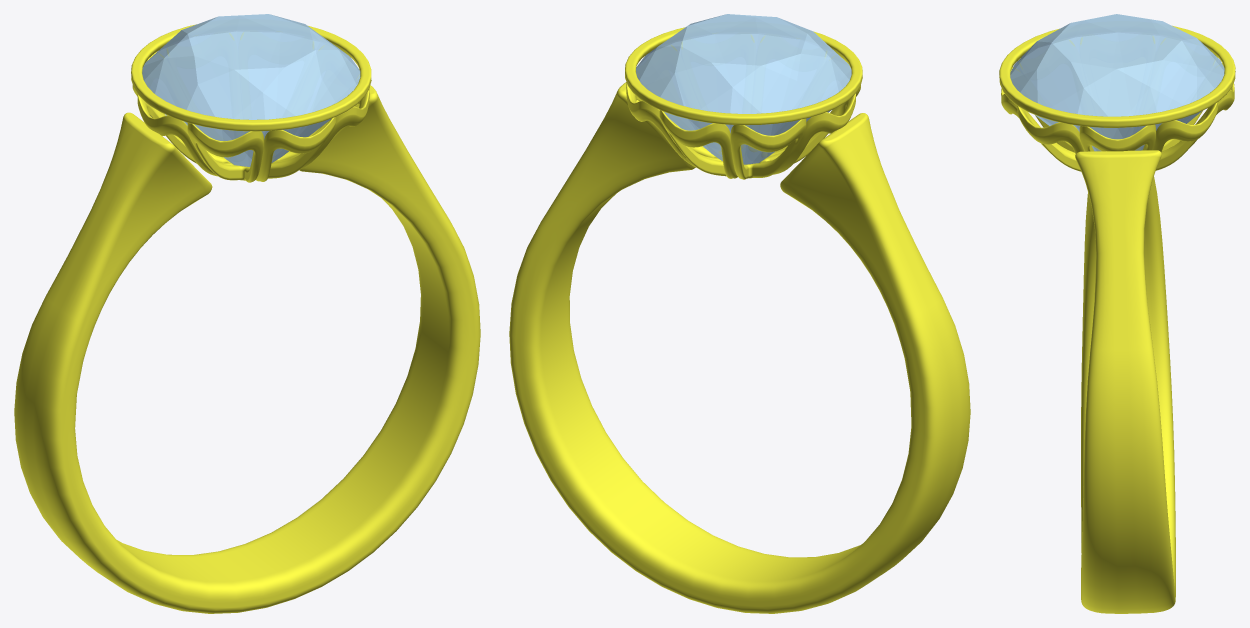
Rendered from ring.glb.
The picture shows the model from 3 angles, left to right: view 1: azimuth 30°, elevation 25°; view 2: azimuth 150°, elevation 25°; view 3: azimuth 270°, elevation 25°; orthographic projection.
Visible parts, largest first — view 1: Object_3, Object_5, Object_4; view 2: Object_3, Object_5, Object_4; view 3: Object_3, Object_5.
Boxes of the visible parts, x1,y1,x2,y2 form: Object_3: (14,24,480,612); Object_5: (142,14,360,166); Object_4: (41,91,471,613); Object_3: (509,27,970,613); Object_5: (636,14,851,164); Object_4: (617,89,970,520); Object_3: (999,25,1235,613); Object_5: (1010,14,1224,151).
Size of the model in its own units: 0.3108 by 0.3799 by 0.1477.
